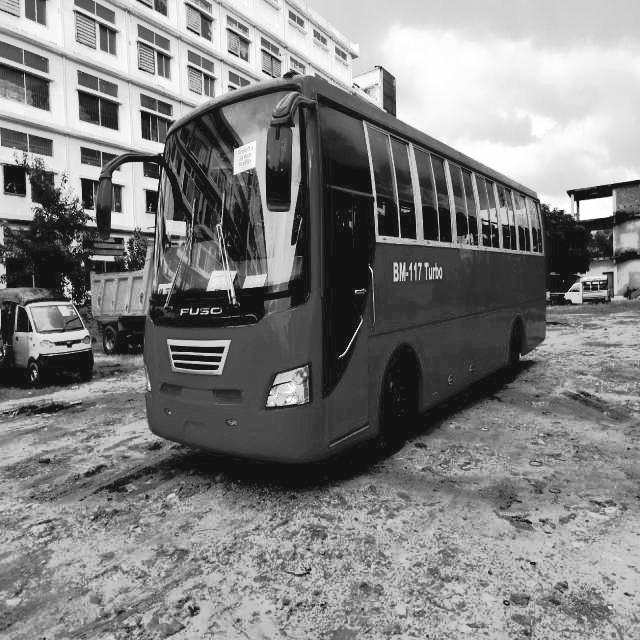Bus: (46, 37, 578, 499)
